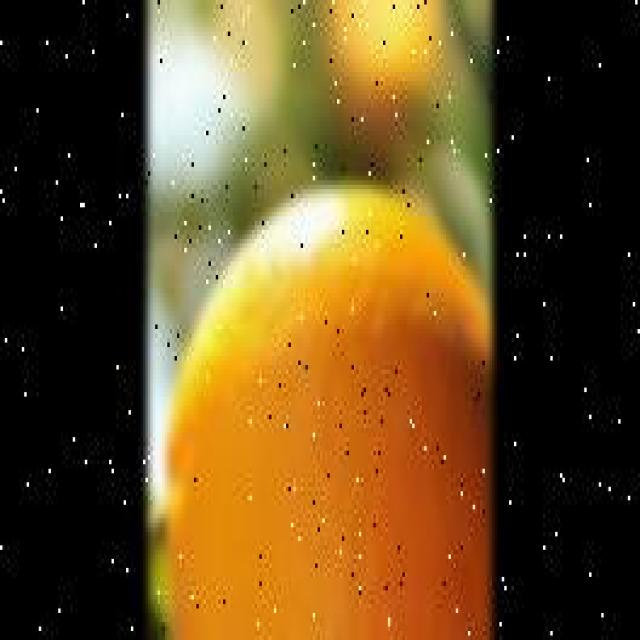orange: (157, 175, 488, 638)
